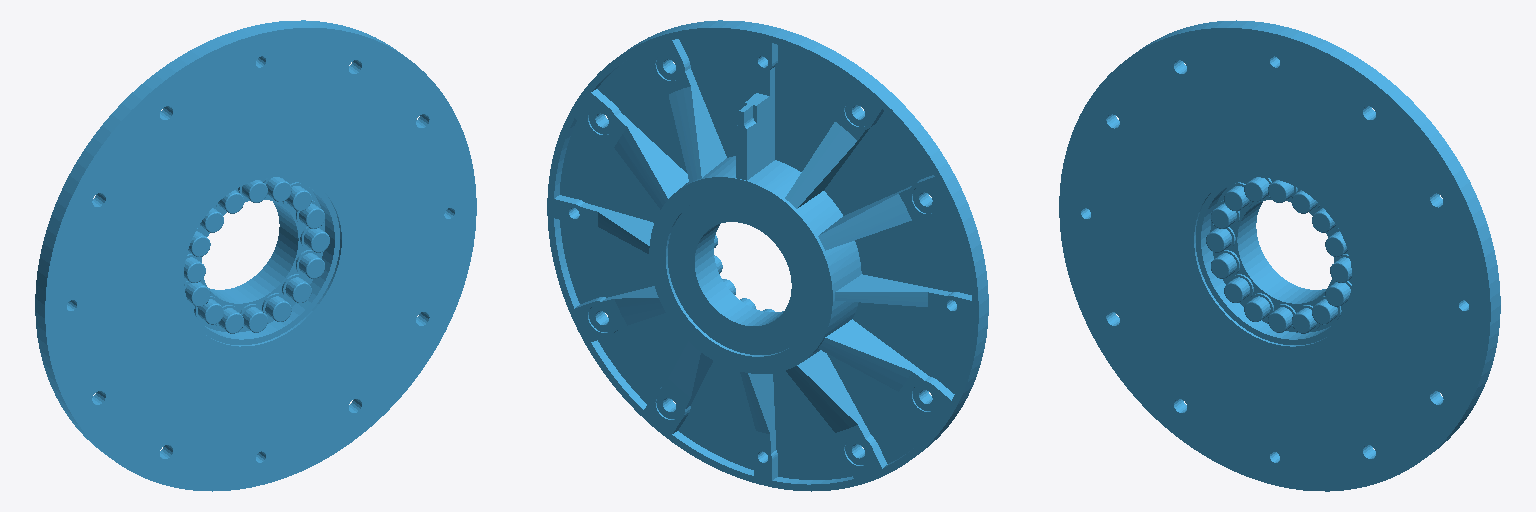
URDF robot description (Irbpl-5000_IRC5_rev02_CAD):
<?xml version="1.0" ?>
<robot name="Irbpl-5000_IRC5_rev02_CAD">

<link name="base_link">
  <inertial>
    <origin xyz="0.0005829778485577822 -1.2036208599013447 0.6626388627610642" rpy="0 0 0"/>
    <mass value="5166.929784478039"/>
    <inertia ixx="13841.161857" iyy="1110.892651" izz="12966.097307" ixy="-4.062372" iyz="-421.700705" ixz="-0.857961"/>
  </inertial>
  <visual>
    <origin xyz="0 0 0" rpy="0 0 0"/>
    <geometry>
      <mesh filename="package://Irbpl-5000_IRC5_rev02_CAD_description/meshes/base_link.stl" scale="0.001 0.001 0.001"/>
    </geometry>
    <material name="silver"/>
  </visual>
  <collision>
    <origin xyz="0 0 0" rpy="0 0 0"/>
    <geometry>
      <mesh filename="package://Irbpl-5000_IRC5_rev02_CAD_description/meshes/base_link.stl" scale="0.001 0.001 0.001"/>
    </geometry>
  </collision>
</link>

<link name="Component3_1">
  <inertial>
    <origin xyz="4.517241260918661e-14 -0.06442413982761847 0.0016023645647960105" rpy="0 0 0"/>
    <mass value="122.79910584772315"/>
    <inertia ixx="4.004183" iyy="7.771467" izz="3.958058" ixy="0.0" iyz="-0.007626" ixz="-0.0"/>
  </inertial>
  <visual>
    <origin xyz="-0.0 0.3298 -1.2" rpy="0 0 0"/>
    <geometry>
      <mesh filename="package://Irbpl-5000_IRC5_rev02_CAD_description/meshes/Component3_1.stl" scale="0.001 0.001 0.001"/>
    </geometry>
    <material name="silver"/>
  </visual>
  <collision>
    <origin xyz="-0.0 0.3298 -1.2" rpy="0 0 0"/>
    <geometry>
      <mesh filename="package://Irbpl-5000_IRC5_rev02_CAD_description/meshes/Component3_1.stl" scale="0.001 0.001 0.001"/>
    </geometry>
  </collision>
</link>

<joint name="Revolute 1" type="continuous">
  <origin xyz="0.0 -0.3298 1.2" rpy="0 0 0"/>
  <parent link="base_link"/>
  <child link="Component3_1"/>
  <axis xyz="0.0 1.0 0.0"/>
</joint>

</robot>

--- Facts derived from the render (not from the file) ---
3 views of the same robot in one strip: view 1: azimuth 30°, elevation 25°; view 2: azimuth 150°, elevation 25°; view 3: azimuth 330°, elevation 25° (orthographic).
Robot: Irbpl-5000_IRC5_rev02_CAD — 2 links, 1 joints (1 continuous); root link base_link; default pose: every joint at zero.
Visible links, largest first — view 1: Component3_1; view 2: Component3_1; view 3: Component3_1.
Link boxes in pixels (box(x1,y1,x2,y2)): Component3_1: box(35, 20, 476, 491); Component3_1: box(547, 20, 988, 491); Component3_1: box(1059, 20, 1500, 491).
Bounding box of the posed robot: 0.7998 × 0.1025 × 0.7999 m (x, y, z).
Meshes: 2 distinct files referenced, 1 mesh visuals loaded (1 binary STL); not drawn: 1 (reference not matched to a file when rendering).